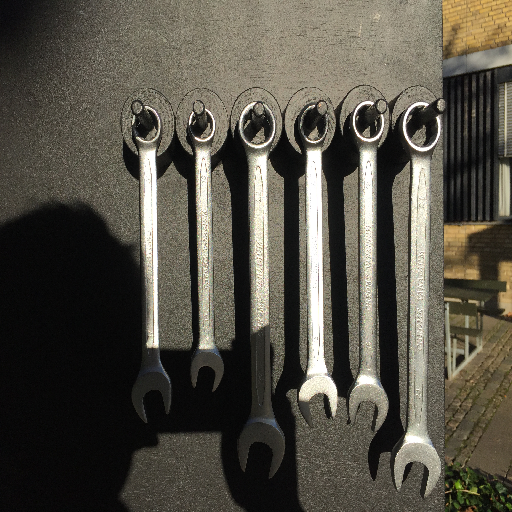bottom: (390, 429, 443, 500), (235, 415, 287, 483), (346, 372, 389, 434), (132, 365, 173, 421), (296, 373, 339, 426), (188, 347, 225, 396)
top: (399, 101, 441, 157), (237, 100, 277, 154), (350, 100, 387, 149), (296, 102, 330, 149), (130, 105, 164, 150), (186, 106, 217, 146)
